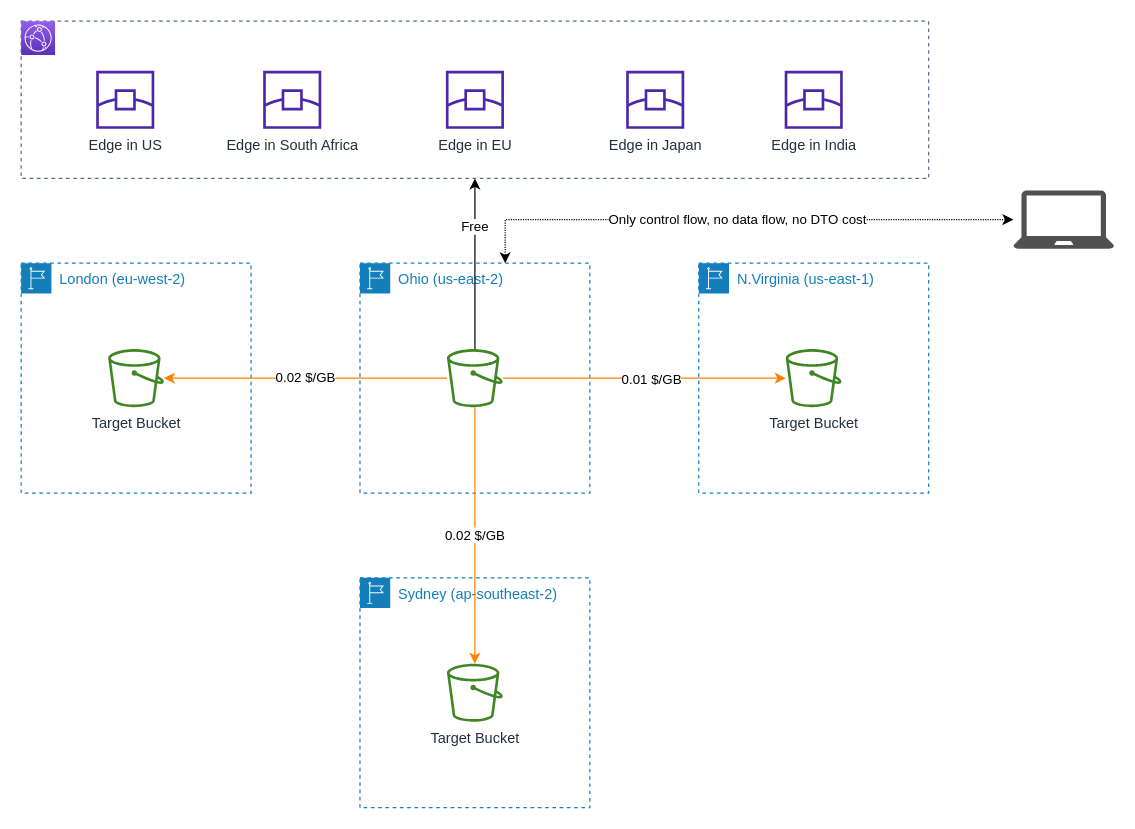
The diagram is 1135 pixels wide and 829 high, and some of its shapes have lost their labels. Here are the shapes that lost their labels. From the top down, the box of each, then its label:
(20, 20, 929, 178): CloudFront Resource
(1013, 190, 1114, 248): Laptop (call S3 API)
(446, 348, 502, 407): Source Bucket
